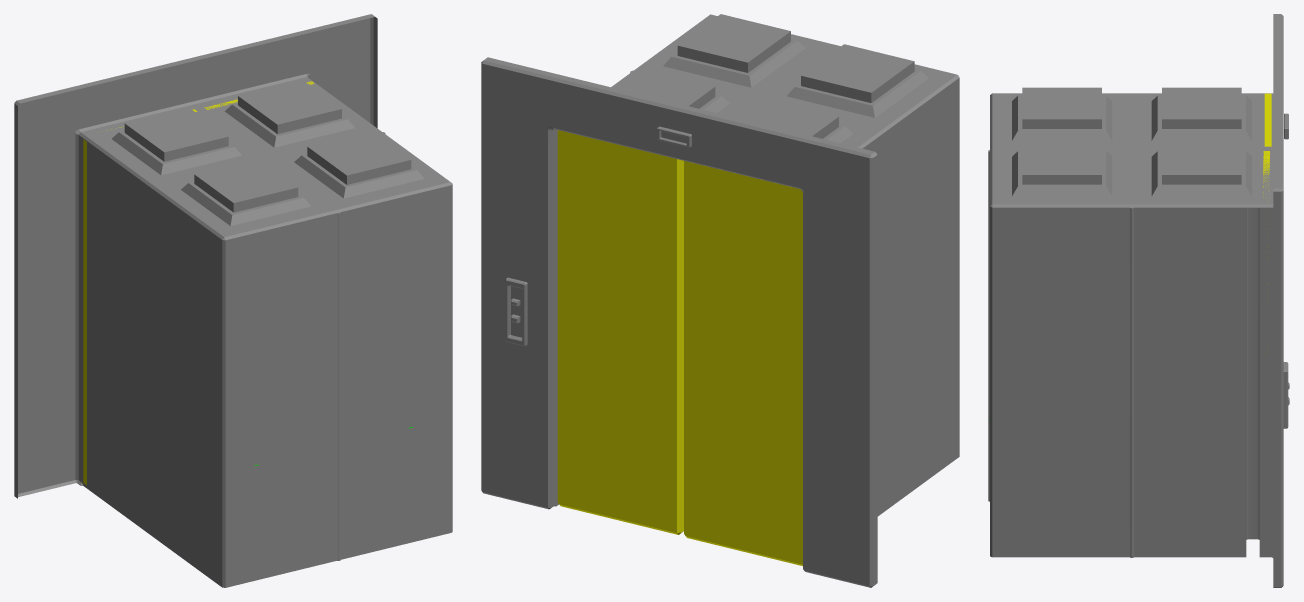
Rendered from Elevator.fbx.
3 renders of one model, left to right at view 1: azimuth 30°, elevation 25°; view 2: azimuth 150°, elevation 25°; view 3: azimuth 270°, elevation 25°, orthographic. The views are drawn at different scales.
Parts seen in each view (by area): view 1: Elevator, Elevator_door2; view 2: Elevator, Elevator_door1, Elevator_door2; view 3: Elevator, Elevator_door2.
Boxes of the visible parts, bbox=[...] form: Elevator: bbox=[14, 14, 452, 587]; Elevator_door2: bbox=[83, 109, 197, 485]; Elevator: bbox=[481, 14, 959, 587]; Elevator_door1: bbox=[557, 130, 683, 534]; Elevator_door2: bbox=[684, 161, 802, 565]; Elevator: bbox=[988, 14, 1289, 587]; Elevator_door2: bbox=[1264, 93, 1271, 146].
Bounding box in the file's own units: 373 × 393 × 269.
